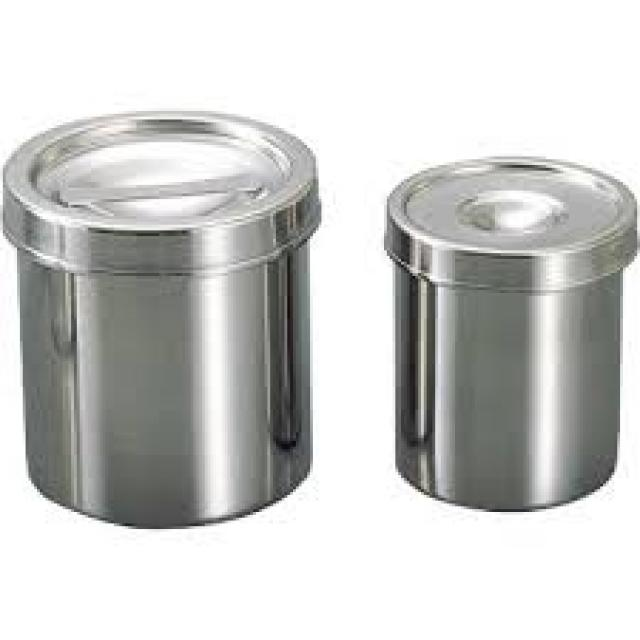metal: (0, 108, 324, 532), (384, 156, 640, 512)
